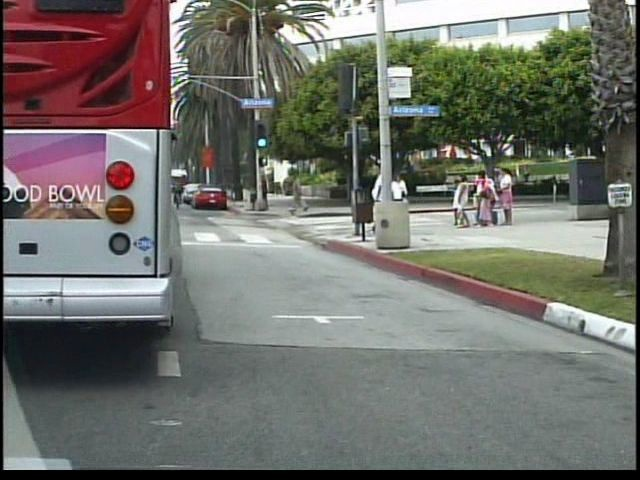person: (372, 162, 397, 239), (393, 168, 415, 229), (291, 170, 313, 218)
